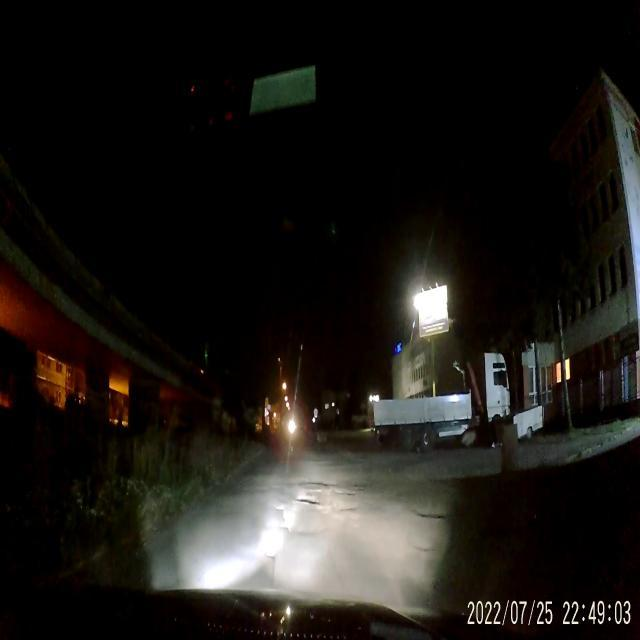Pothole: (414, 503, 452, 528), (291, 494, 323, 510), (336, 502, 356, 518), (304, 477, 328, 489), (334, 489, 356, 498), (352, 480, 368, 490)
